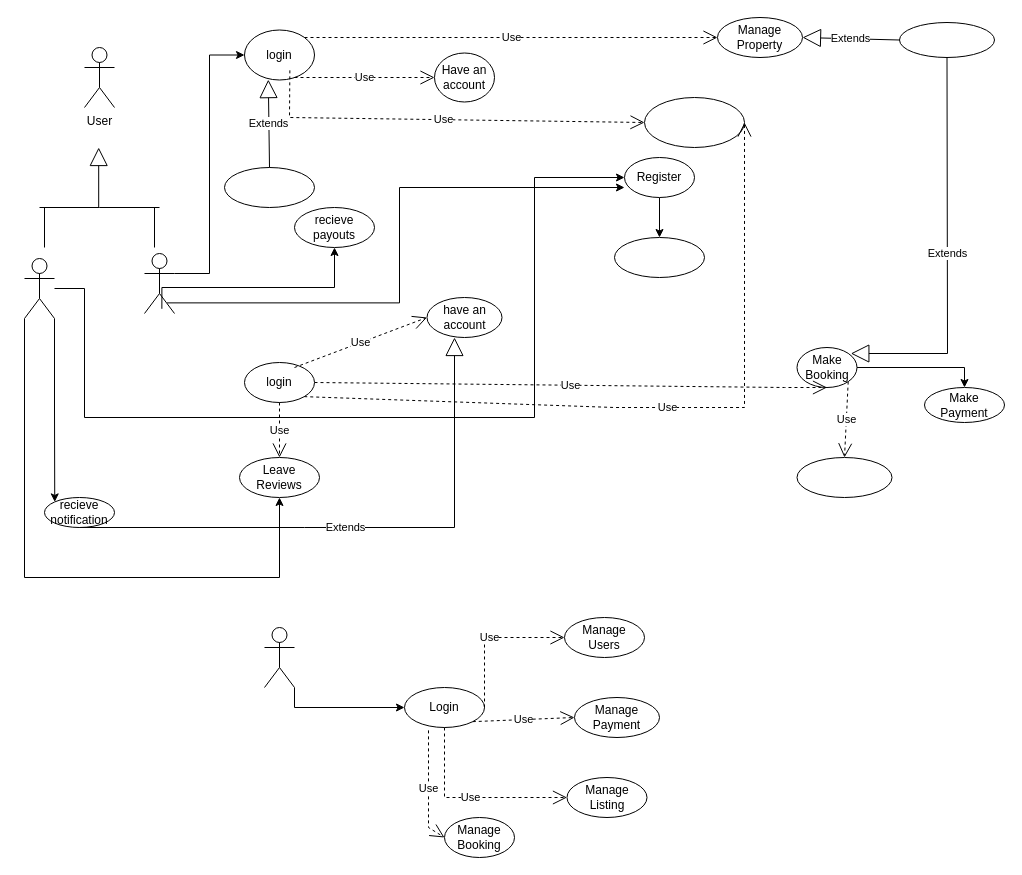
The diagram is 1022 pixels wide and 875 high, and some of its shapes have lost their labels. Each missing label, with the box of its shape:
Admin: (264, 626, 294, 688)
Check availability: (796, 456, 892, 498)
Create an Account: (614, 236, 704, 278)
Guest: (24, 258, 54, 318)
Host: (144, 252, 174, 314)
Manage their profile: (644, 96, 744, 148)
Respond to reviews: (224, 166, 314, 208)
Search and Filter: (898, 22, 994, 58)
